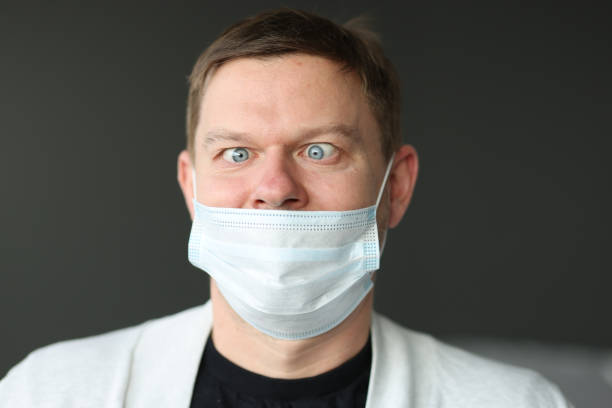mask_weared_incorrect: (183, 31, 389, 332)
